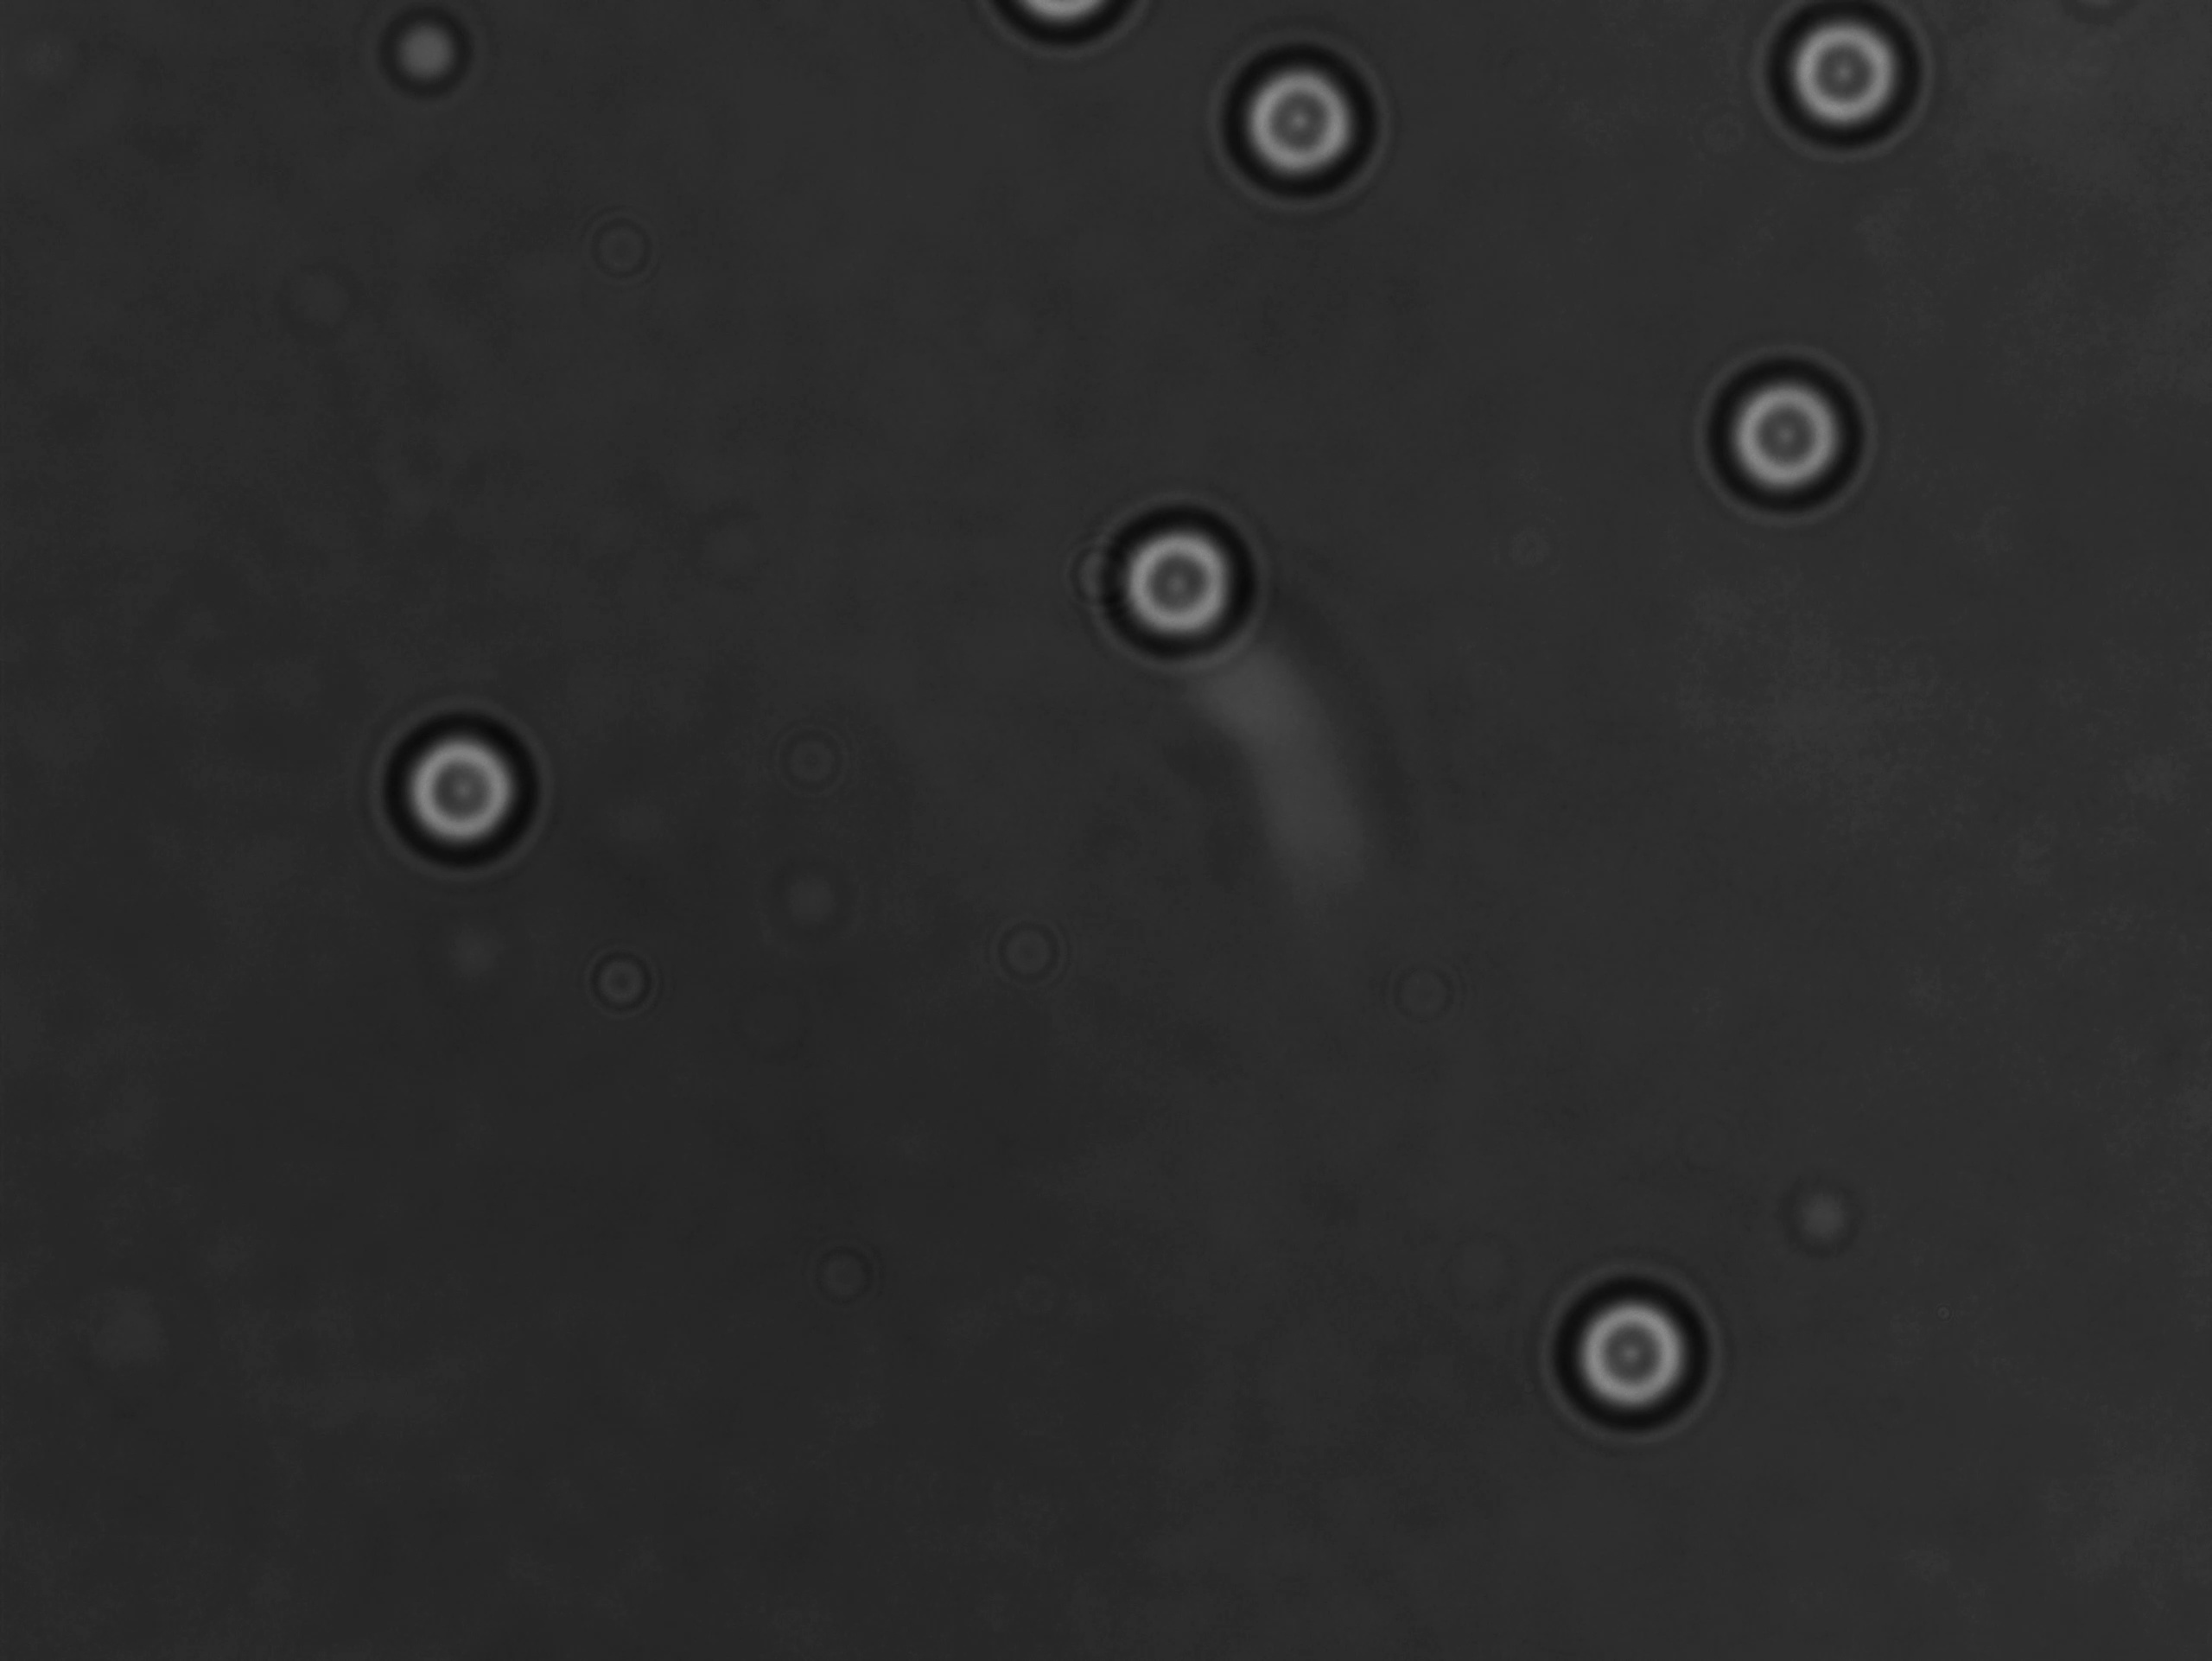depth:20: (1101, 485, 1277, 677), (1542, 1249, 1722, 1434), (1697, 349, 1874, 518), (384, 712, 550, 867), (1225, 44, 1376, 199)
